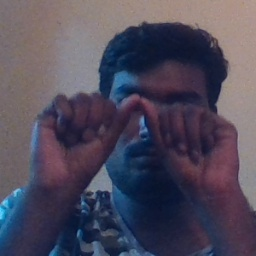A: (65, 86, 207, 186)
